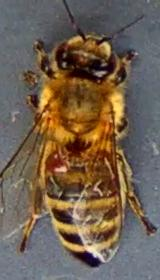varroa_mite: (32, 134, 94, 184)
